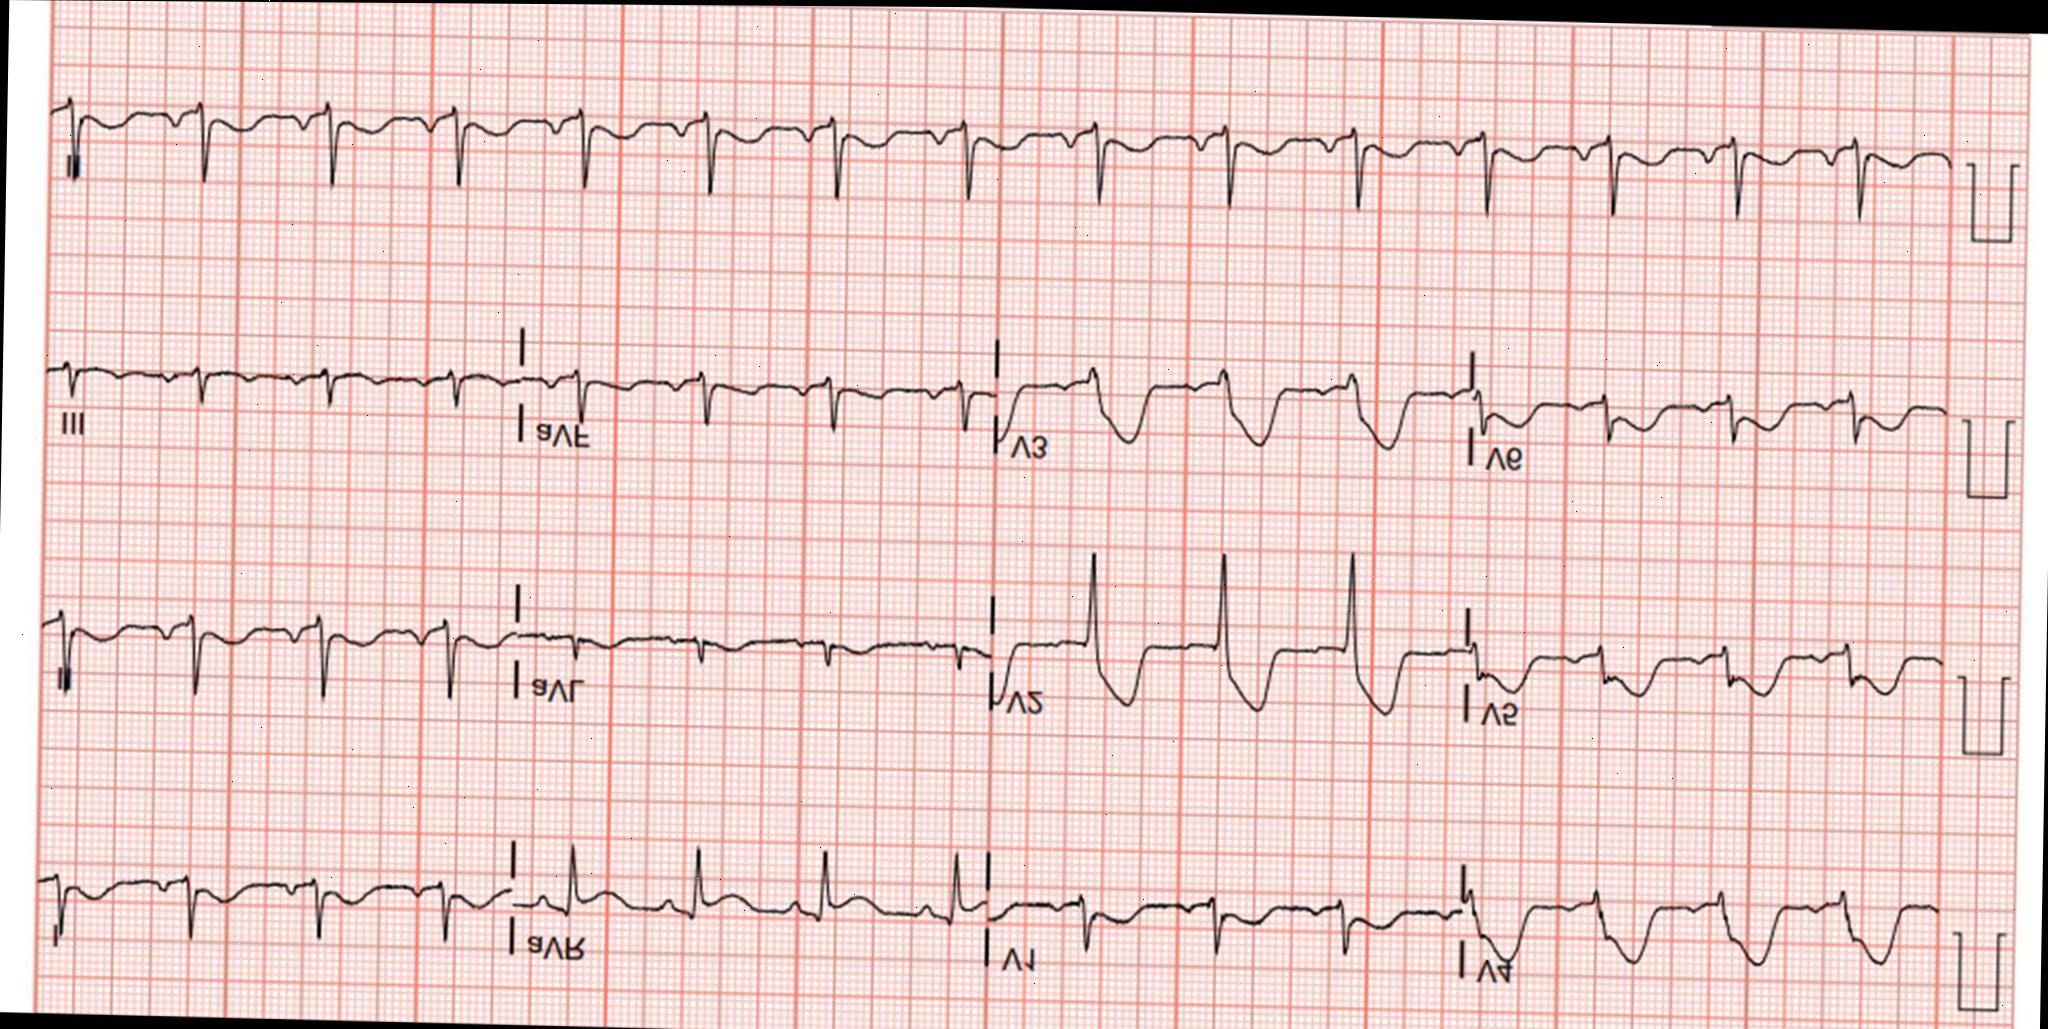Lead_I: (32, 808, 516, 977)
Lead_II: (37, 550, 522, 737)
Lead_III: (42, 297, 524, 489)
Lead_II_ext: (59, 63, 1964, 249)
Lead_V1: (982, 810, 1466, 1020)
Lead_V2: (990, 521, 1470, 751)
Lead_V3: (997, 307, 1473, 491)
Lead_V4: (1458, 830, 1946, 1029)
Lead_V5: (1462, 563, 1950, 765)
Lead_V6: (1466, 333, 1958, 499)
Lead_aVF: (518, 305, 996, 483)
Lead_aVL: (518, 555, 996, 739)
Lead_aVR: (510, 801, 991, 1000)
